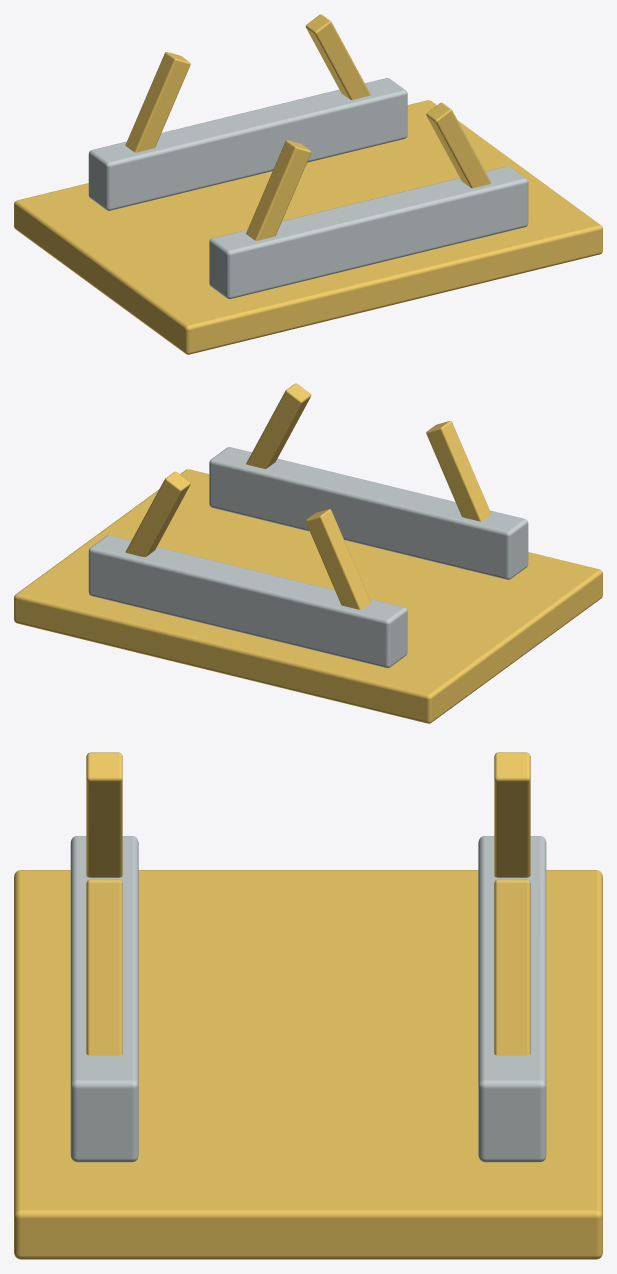
Rendered from hydroelectric-dam-infiltration-turbine-lifting-cradle-02c4b71b__29358.glb.
3 views of the same model, one above another, from view 1: azimuth 30°, elevation 25°; view 2: azimuth 150°, elevation 25°; view 3: azimuth 270°, elevation 25° (orthographic). The views are drawn at different scales.
Visible parts, largest first — view 1: turbine-lifting-cradle; view 2: turbine-lifting-cradle; view 3: turbine-lifting-cradle.
Boxes of the visible parts, bbox=[...] form: turbine-lifting-cradle: bbox=[14, 14, 602, 354]; turbine-lifting-cradle: bbox=[14, 383, 602, 723]; turbine-lifting-cradle: bbox=[14, 752, 602, 1259].
Size of the model in its own units: 1.8 by 0.6647 by 1.3.
